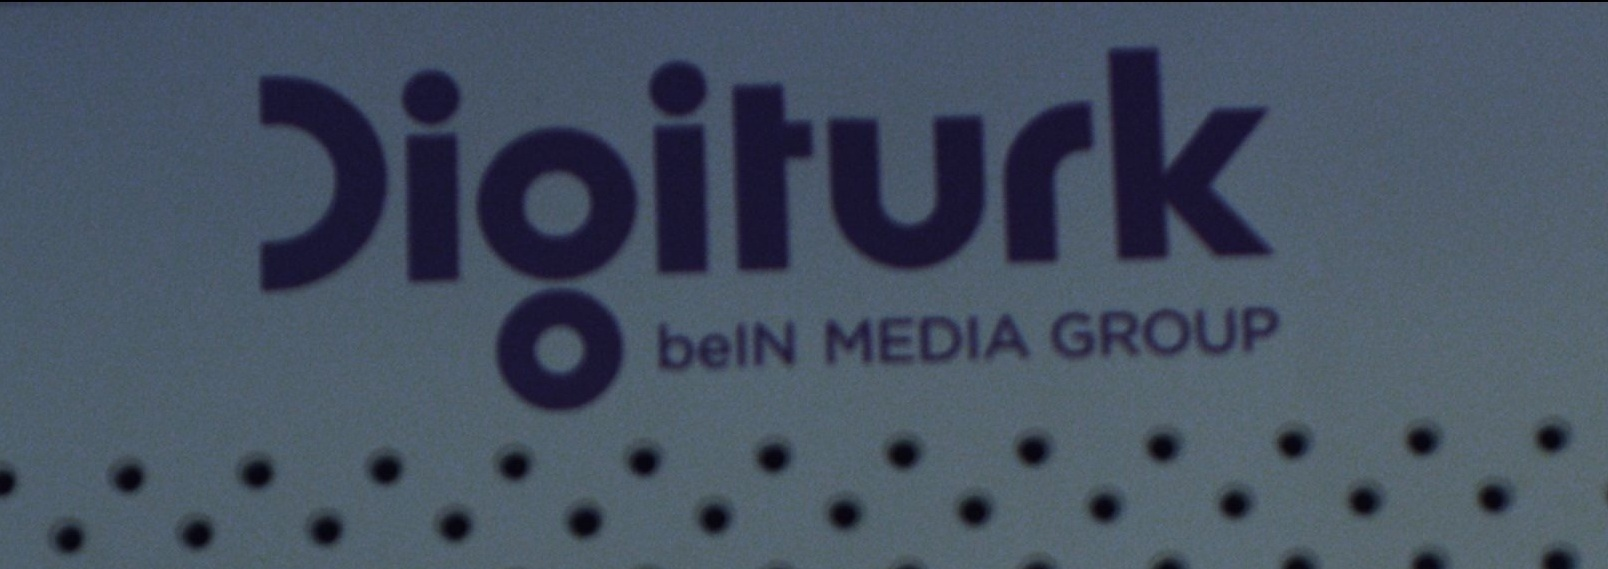BW_H168ADigiturk: (228, 16, 1340, 431)
